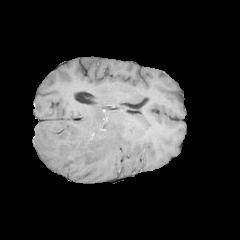glioma: (39, 105, 133, 172)
